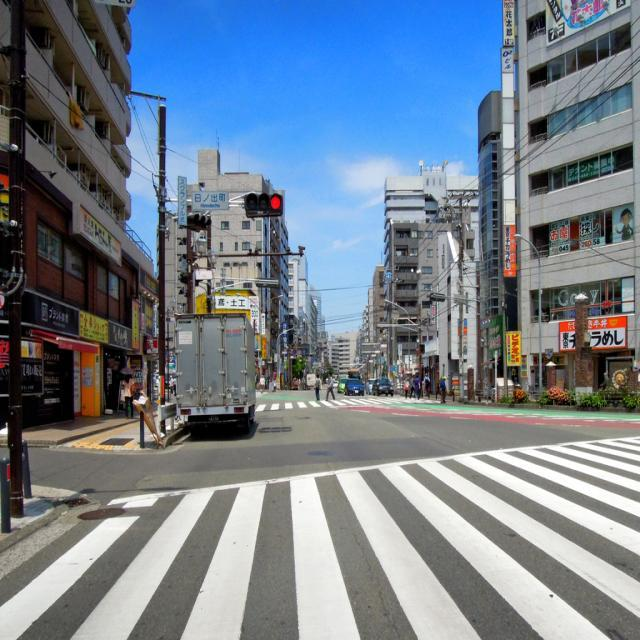traffic light: (245, 193, 282, 209)
